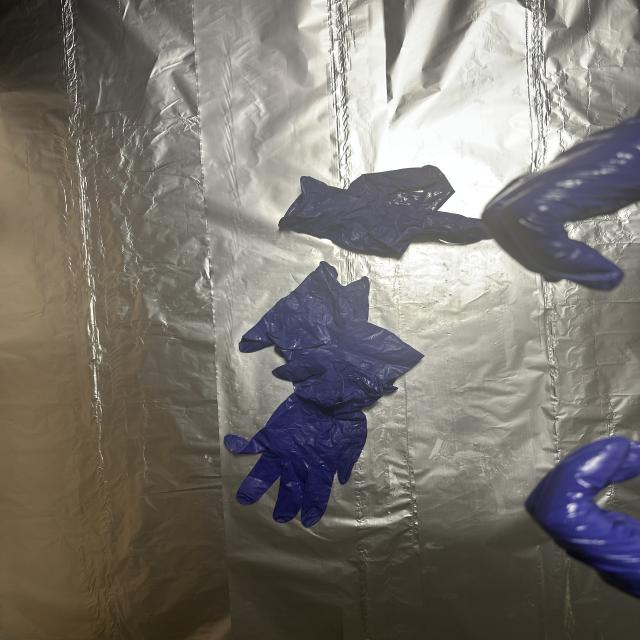gloves_contaminated: (482, 112, 640, 291), (525, 436, 640, 596)
